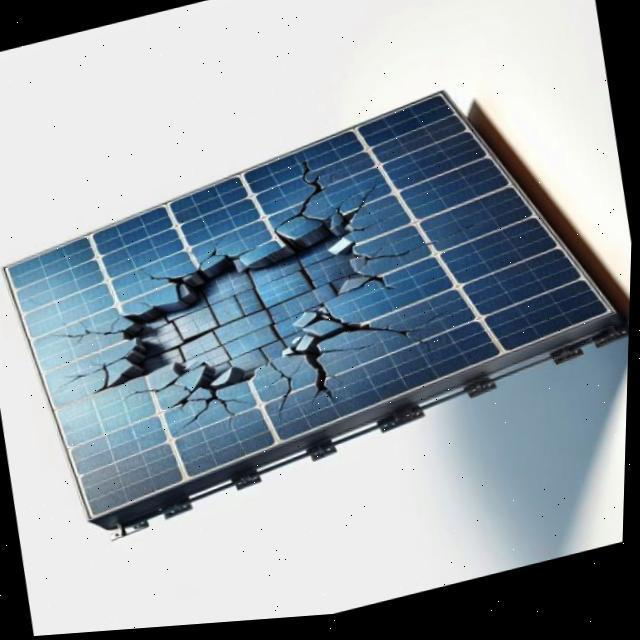Anomaly Solar Panel: (5, 65, 611, 521)
Structural Damage: (85, 207, 390, 432), (367, 220, 478, 274), (272, 160, 340, 245), (359, 309, 447, 365), (165, 383, 256, 436), (56, 354, 131, 403), (50, 311, 125, 353), (124, 373, 183, 408), (189, 236, 234, 273), (305, 354, 335, 408), (266, 366, 294, 419), (136, 268, 185, 287), (320, 346, 378, 360), (371, 278, 402, 304), (349, 220, 389, 240), (324, 196, 349, 227), (354, 188, 376, 216)
